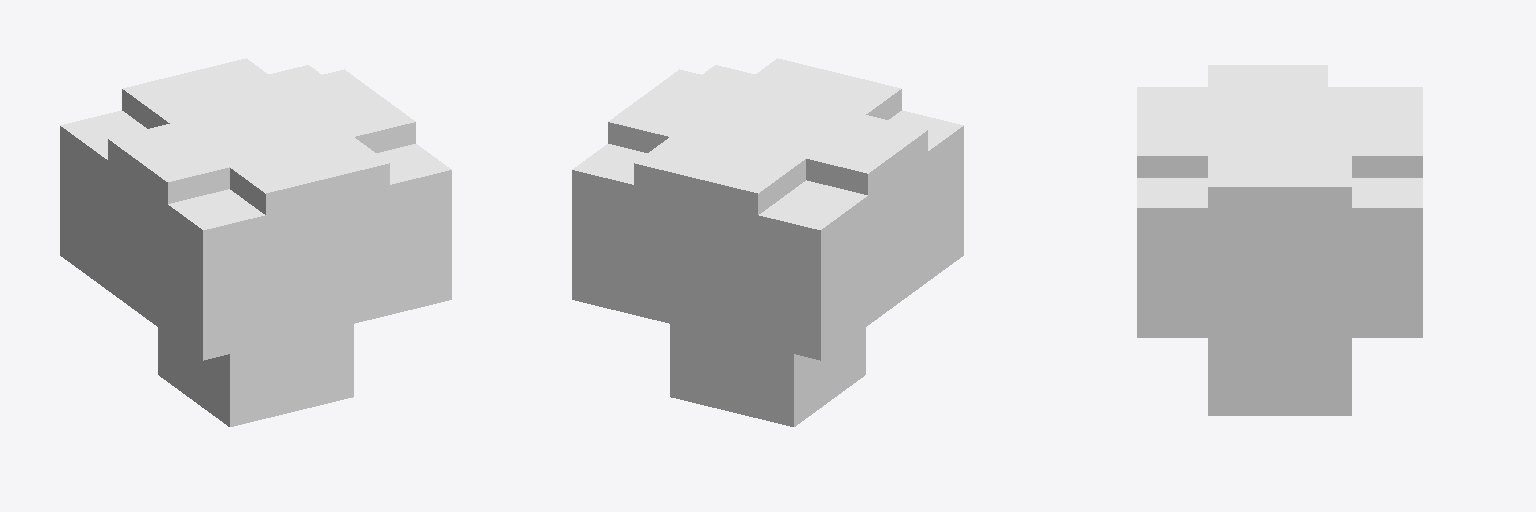
File: ChampiTile.obj
The picture shows the model from 3 angles: view 1: azimuth 30°, elevation 25°; view 2: azimuth 150°, elevation 25°; view 3: azimuth 270°, elevation 25°; orthographic projection.
Visible parts, largest first — view 1: object 1; view 2: object 1; view 3: object 1.
Part boxes in pixels (bbox=[...]): object 1: bbox=[60, 58, 451, 426]; object 1: bbox=[572, 58, 963, 426]; object 1: bbox=[1137, 65, 1422, 415].
Size of the model in its own units: 1.2 by 1.2 by 1.2.